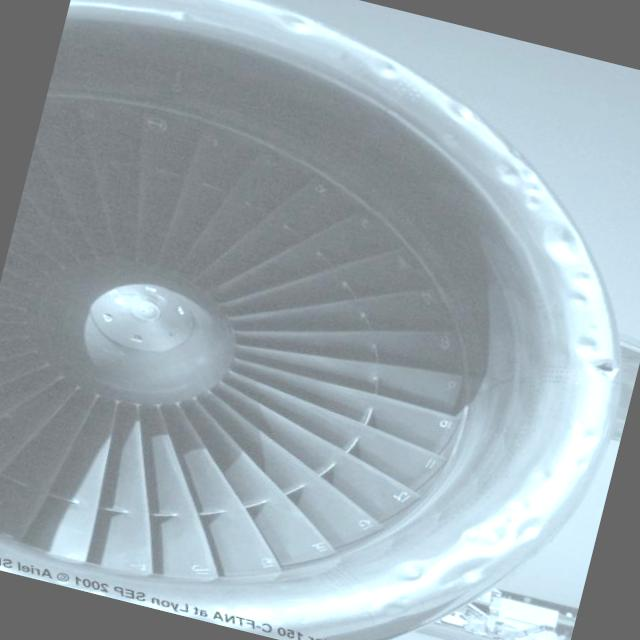dent: (367, 480, 545, 640), (520, 214, 618, 278)
